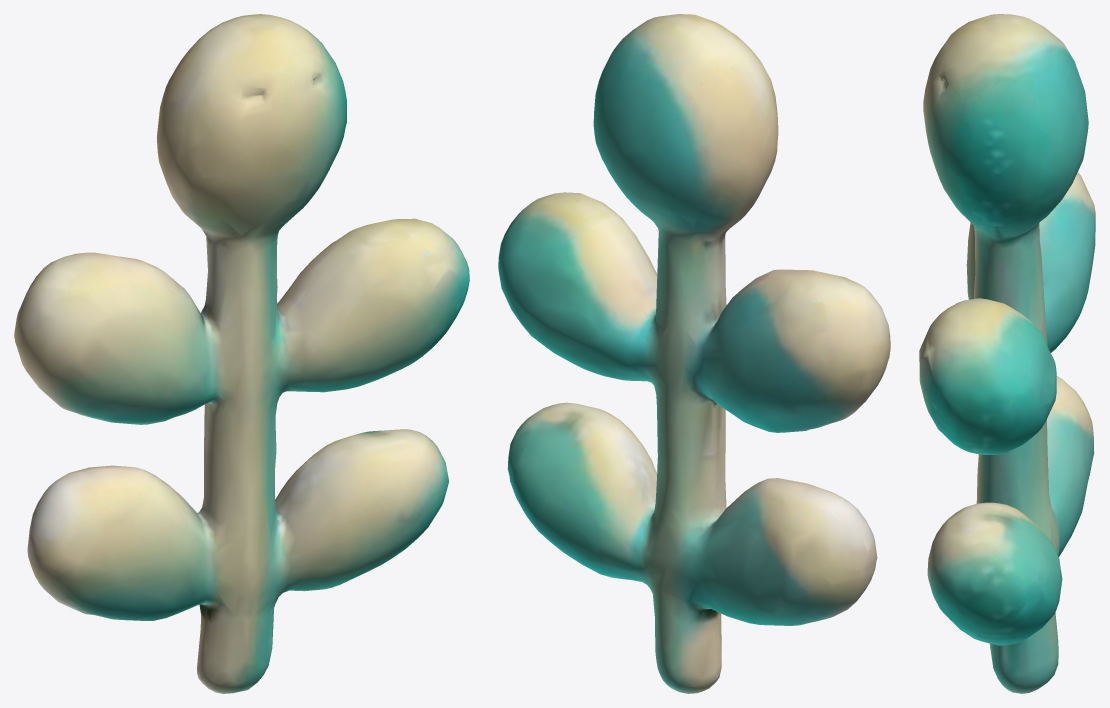
File: the-joy-of-leaves.glb
3 renders of one model, left to right at view 1: azimuth 30°, elevation 25°; view 2: azimuth 150°, elevation 25°; view 3: azimuth 270°, elevation 25°, orthographic. The views are drawn at different scales.
Visible parts, largest first — view 1: mesh; view 2: mesh; view 3: mesh.
Boxes of the visible parts, left/top/right/bottom form: mesh: left=14, top=14, right=469, bottom=693; mesh: left=498, top=14, right=890, bottom=693; mesh: left=919, top=14, right=1095, bottom=693.
Bounding box in the file's own units: 1.28 × 2 × 0.4716.
Materials: 1 (1 with a texture image).
